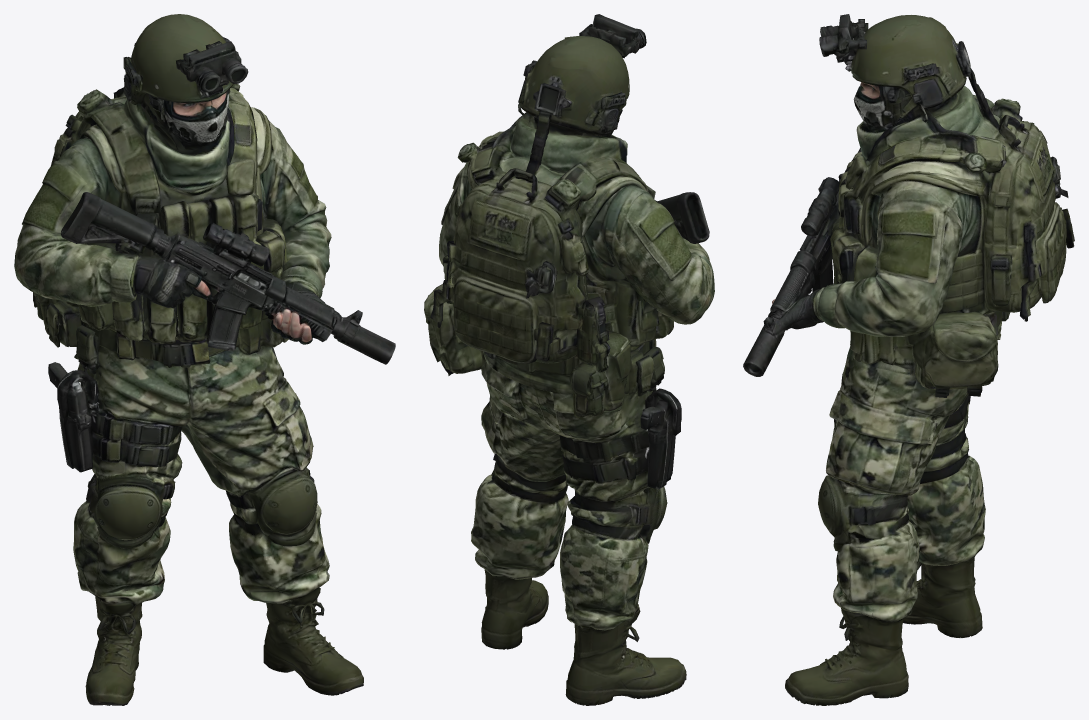
File: military.glb
3 renders of one model, left to right at view 1: azimuth 30°, elevation 25°; view 2: azimuth 150°, elevation 25°; view 3: azimuth 270°, elevation 25°, orthographic. The views are drawn at different scales.
Visible parts, largest first — view 1: tripo_node_e0295dcb-39cc-414e-ae79-4382f1b7aa28; view 2: tripo_node_e0295dcb-39cc-414e-ae79-4382f1b7aa28; view 3: tripo_node_e0295dcb-39cc-414e-ae79-4382f1b7aa28.
Part boxes in pixels (x1,y1,x2,y2): tripo_node_e0295dcb-39cc-414e-ae79-4382f1b7aa28: (14, 14, 395, 705); tripo_node_e0295dcb-39cc-414e-ae79-4382f1b7aa28: (424, 14, 714, 705); tripo_node_e0295dcb-39cc-414e-ae79-4382f1b7aa28: (743, 14, 1074, 705).
Bounding box in the file's own units: 0.4496 × 0.9838 × 0.468.
1 material, 1 textured.
